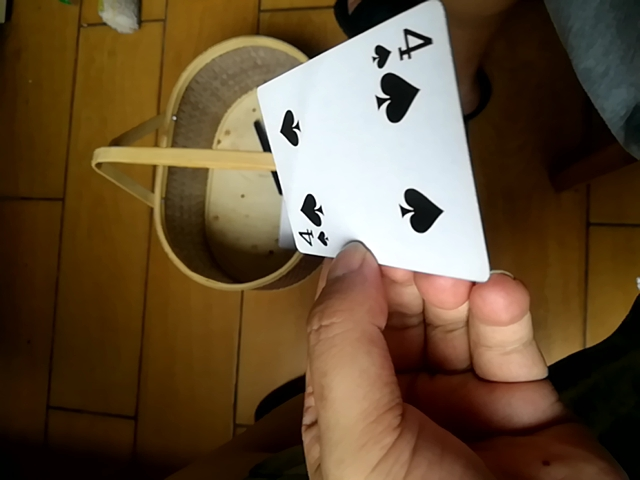ht 4: (252, 0, 489, 291)
